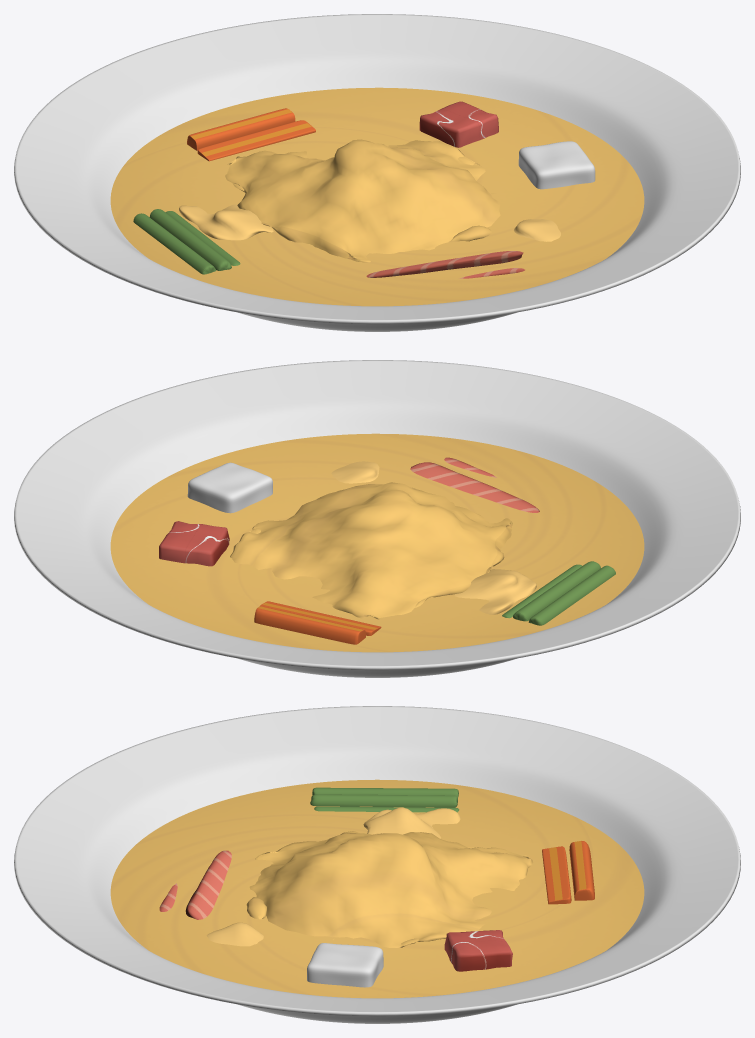
Rendered from piring_mixture 1.fbx.
The picture shows the model from 3 angles, top to bottom: view 1: azimuth 30°, elevation 25°; view 2: azimuth 150°, elevation 25°; view 3: azimuth 270°, elevation 25°; orthographic projection.
Visible parts, largest first — view 1: plate, Circle, Cube.003, tahu.001, Cube.011, Cube.001, carrot.002, carrot.001, Cube.010, Cylinder.003, Cylinder.001, Cube (+1 smaller); view 2: plate, Circle, Cube.003, tahu.001, Cube.011, Cube.001, carrot.001, Cube.010, Cylinder.003, Cylinder.001, carrot.002, Cube (+1 smaller); view 3: plate, Circle, Cube.003, tahu.001, Cube.011, Cube.001, Cylinder.001, Cube.010, carrot.002, carrot.001, Cylinder.003, Cube (+1 smaller).
Part boxes in pixels (bbox=[...]): plate: bbox=[14, 14, 740, 331]; Circle: bbox=[110, 87, 644, 306]; Cube.003: bbox=[225, 139, 500, 262]; tahu.001: bbox=[518, 141, 595, 189]; Cube.011: bbox=[419, 101, 498, 147]; Cube.001: bbox=[179, 204, 273, 240]; carrot.002: bbox=[197, 120, 315, 161]; carrot.001: bbox=[187, 108, 295, 150]; Cube.010: bbox=[366, 251, 523, 277]; Cylinder.003: bbox=[133, 213, 216, 274]; Cylinder.001: bbox=[149, 209, 231, 270]; Cube: bbox=[514, 219, 560, 241]; plate: bbox=[14, 360, 740, 677]; Circle: bbox=[110, 433, 644, 652]; Cube.003: bbox=[230, 482, 512, 619]; tahu.001: bbox=[187, 462, 272, 513]; Cube.011: bbox=[159, 521, 229, 566]; Cube.001: bbox=[454, 569, 536, 614]; carrot.001: bbox=[254, 606, 365, 644]; Cube.010: bbox=[410, 462, 539, 512]; Cylinder.003: bbox=[528, 565, 615, 625]; Cylinder.001: bbox=[513, 561, 600, 621]; carrot.002: bbox=[259, 601, 381, 635]; Cube: bbox=[331, 461, 379, 483]; plate: bbox=[14, 706, 740, 1023]; Circle: bbox=[110, 779, 644, 998]; Cube.003: bbox=[246, 831, 532, 947]; tahu.001: bbox=[307, 943, 383, 987]; Cube.011: bbox=[444, 930, 512, 971]; Cube.001: bbox=[363, 807, 460, 838]; Cylinder.001: bbox=[310, 794, 457, 807]; Cube.010: bbox=[185, 850, 231, 919]; carrot.002: bbox=[542, 846, 571, 904]; carrot.001: bbox=[569, 841, 594, 900]; Cylinder.003: bbox=[312, 787, 458, 798]; Cube: bbox=[206, 922, 263, 946].
Bounding box in the file's own units: 79.64 × 9.92 × 79.64.
10 materials, 3 textured.
